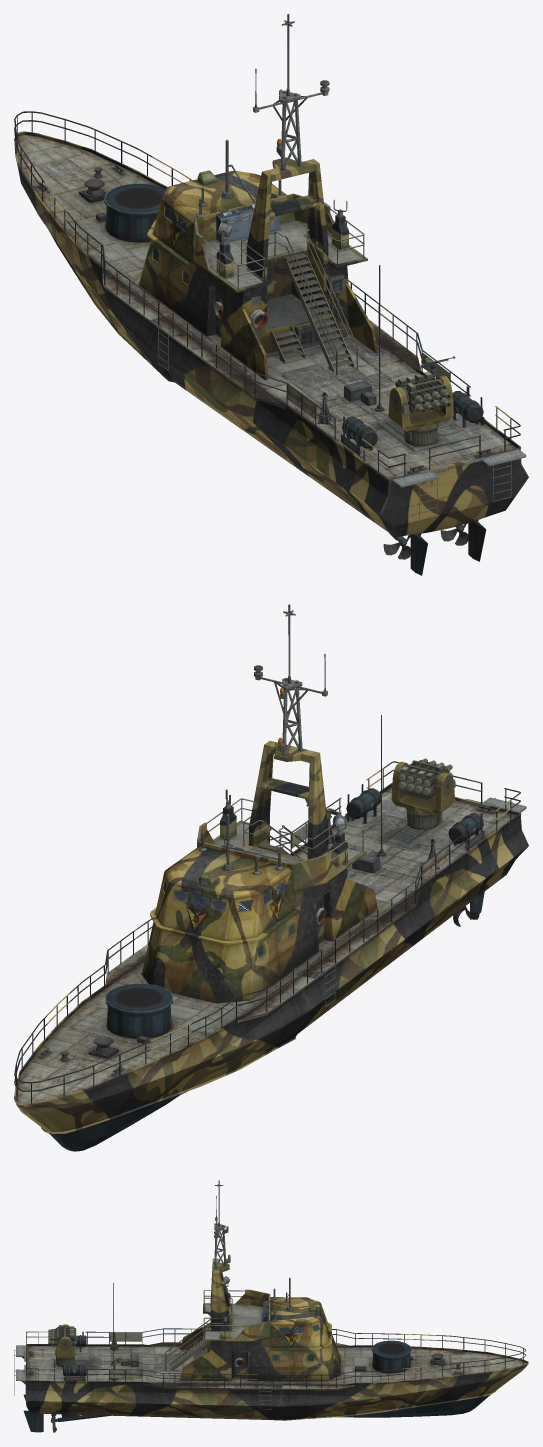
The model's file is Crocodile Gunboat.obj.
The picture shows the model from 3 angles, top to bottom: view 1: azimuth 30°, elevation 25°; view 2: azimuth 150°, elevation 25°; view 3: azimuth 270°, elevation 25°; orthographic projection. The views are drawn at different scales.
Visible parts, largest first — view 1: Object.1; view 2: Object.1; view 3: Object.1.
Part boxes in pixels (x1,y1,x2,y2): Object.1: [14, 14, 528, 575]; Object.1: [14, 604, 528, 1151]; Object.1: [14, 1180, 528, 1432].
Size of the model in its own units: 7.41 by 18.07 by 34.49.
Materials: 8 (8 with a texture image).
